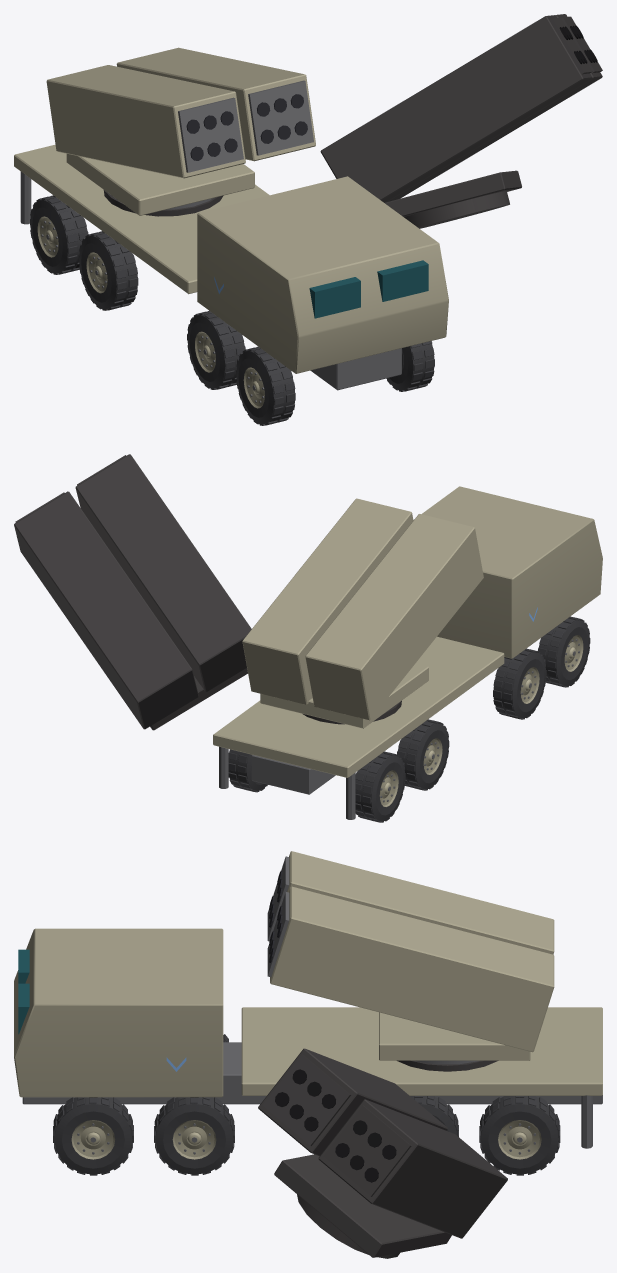
The model's file is himars__puls.glb.
The picture shows the model from 3 angles, top to bottom: view 1: azimuth 30°, elevation 25°; view 2: azimuth 150°, elevation 25°; view 3: azimuth 270°, elevation 25°; orthographic projection. The views are drawn at different scales.
Parts seen in each view (by area): view 1: Hull_Mesh, Wreck, Gun_Mesh, Turret_Mesh, Wheel_L1_Mesh, Wheel_L3_Mesh, Wheel_L0_Mesh, Wheel_L2_Mesh, Wheel_R3_Mesh; view 2: Wreck, Hull_Mesh, Gun_Mesh, Wheel_L2_Mesh, Wheel_L0_Mesh, Wheel_L1_Mesh, Wheel_L3_Mesh, Turret_Mesh, Wheel_R0_Mesh; view 3: Hull_Mesh, Gun_Mesh, Wreck, Wheel_R0_Mesh, Wheel_R2_Mesh, Wheel_R3_Mesh, Turret_Mesh, Wheel_R1_Mesh.
Boxes of the visible parts, x1=… form: Hull_Mesh: x1=14, y1=144, x2=448, y2=390; Wreck: x1=47, y1=14, x2=602, y2=422; Gun_Mesh: x1=46, y1=47, x2=315, y2=178; Turret_Mesh: x1=66, y1=154, x2=254, y2=215; Wheel_L1_Mesh: x1=78, y1=231, x2=138, y2=310; Wheel_L3_Mesh: x1=236, y1=346, x2=295, y2=425; Wheel_L0_Mesh: x1=30, y1=195, x2=88, y2=274; Wheel_L2_Mesh: x1=187, y1=310, x2=245, y2=389; Wheel_R3_Mesh: x1=386, y1=341, x2=434, y2=391; Wreck: x1=14, y1=454, x2=572, y2=819; Hull_Mesh: x1=213, y1=486, x2=602, y2=819; Gun_Mesh: x1=242, y1=498, x2=483, y2=720; Wheel_L2_Mesh: x1=493, y1=648, x2=546, y2=719; Wheel_L0_Mesh: x1=355, y1=751, x2=405, y2=822; Wheel_L1_Mesh: x1=397, y1=719, x2=449, y2=790; Wheel_L3_Mesh: x1=538, y1=616, x2=590, y2=687; Turret_Mesh: x1=260, y1=663, x2=428, y2=728; Wheel_R0_Mesh: x1=228, y1=749, x2=267, y2=792; Hull_Mesh: x1=14, y1=928, x2=602, y2=1148; Gun_Mesh: x1=267, y1=851, x2=554, y2=1052; Wreck: x1=102, y1=1048, x2=535, y2=1258; Wheel_R0_Mesh: x1=479, y1=1096, x2=560, y2=1175; Wheel_R2_Mesh: x1=154, y1=1097, x2=234, y2=1175; Wheel_R3_Mesh: x1=53, y1=1097, x2=133, y2=1175; Turret_Mesh: x1=379, y1=1012, x2=530, y2=1064; Wheel_R1_Mesh: x1=410, y1=1096, x2=458, y2=1136.
Size of what is drawn, in the model's own units: 7.98 by 3.84 by 8.15.
